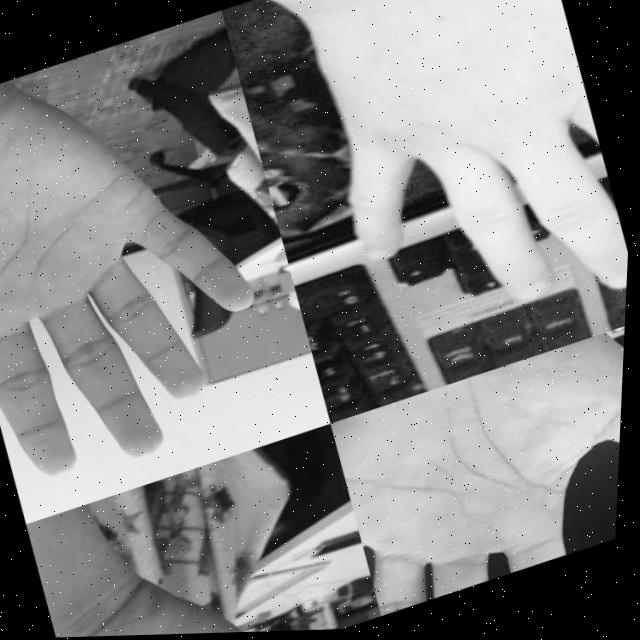hand: (238, 0, 640, 381), (0, 21, 303, 499), (326, 322, 628, 619), (32, 448, 380, 639)
